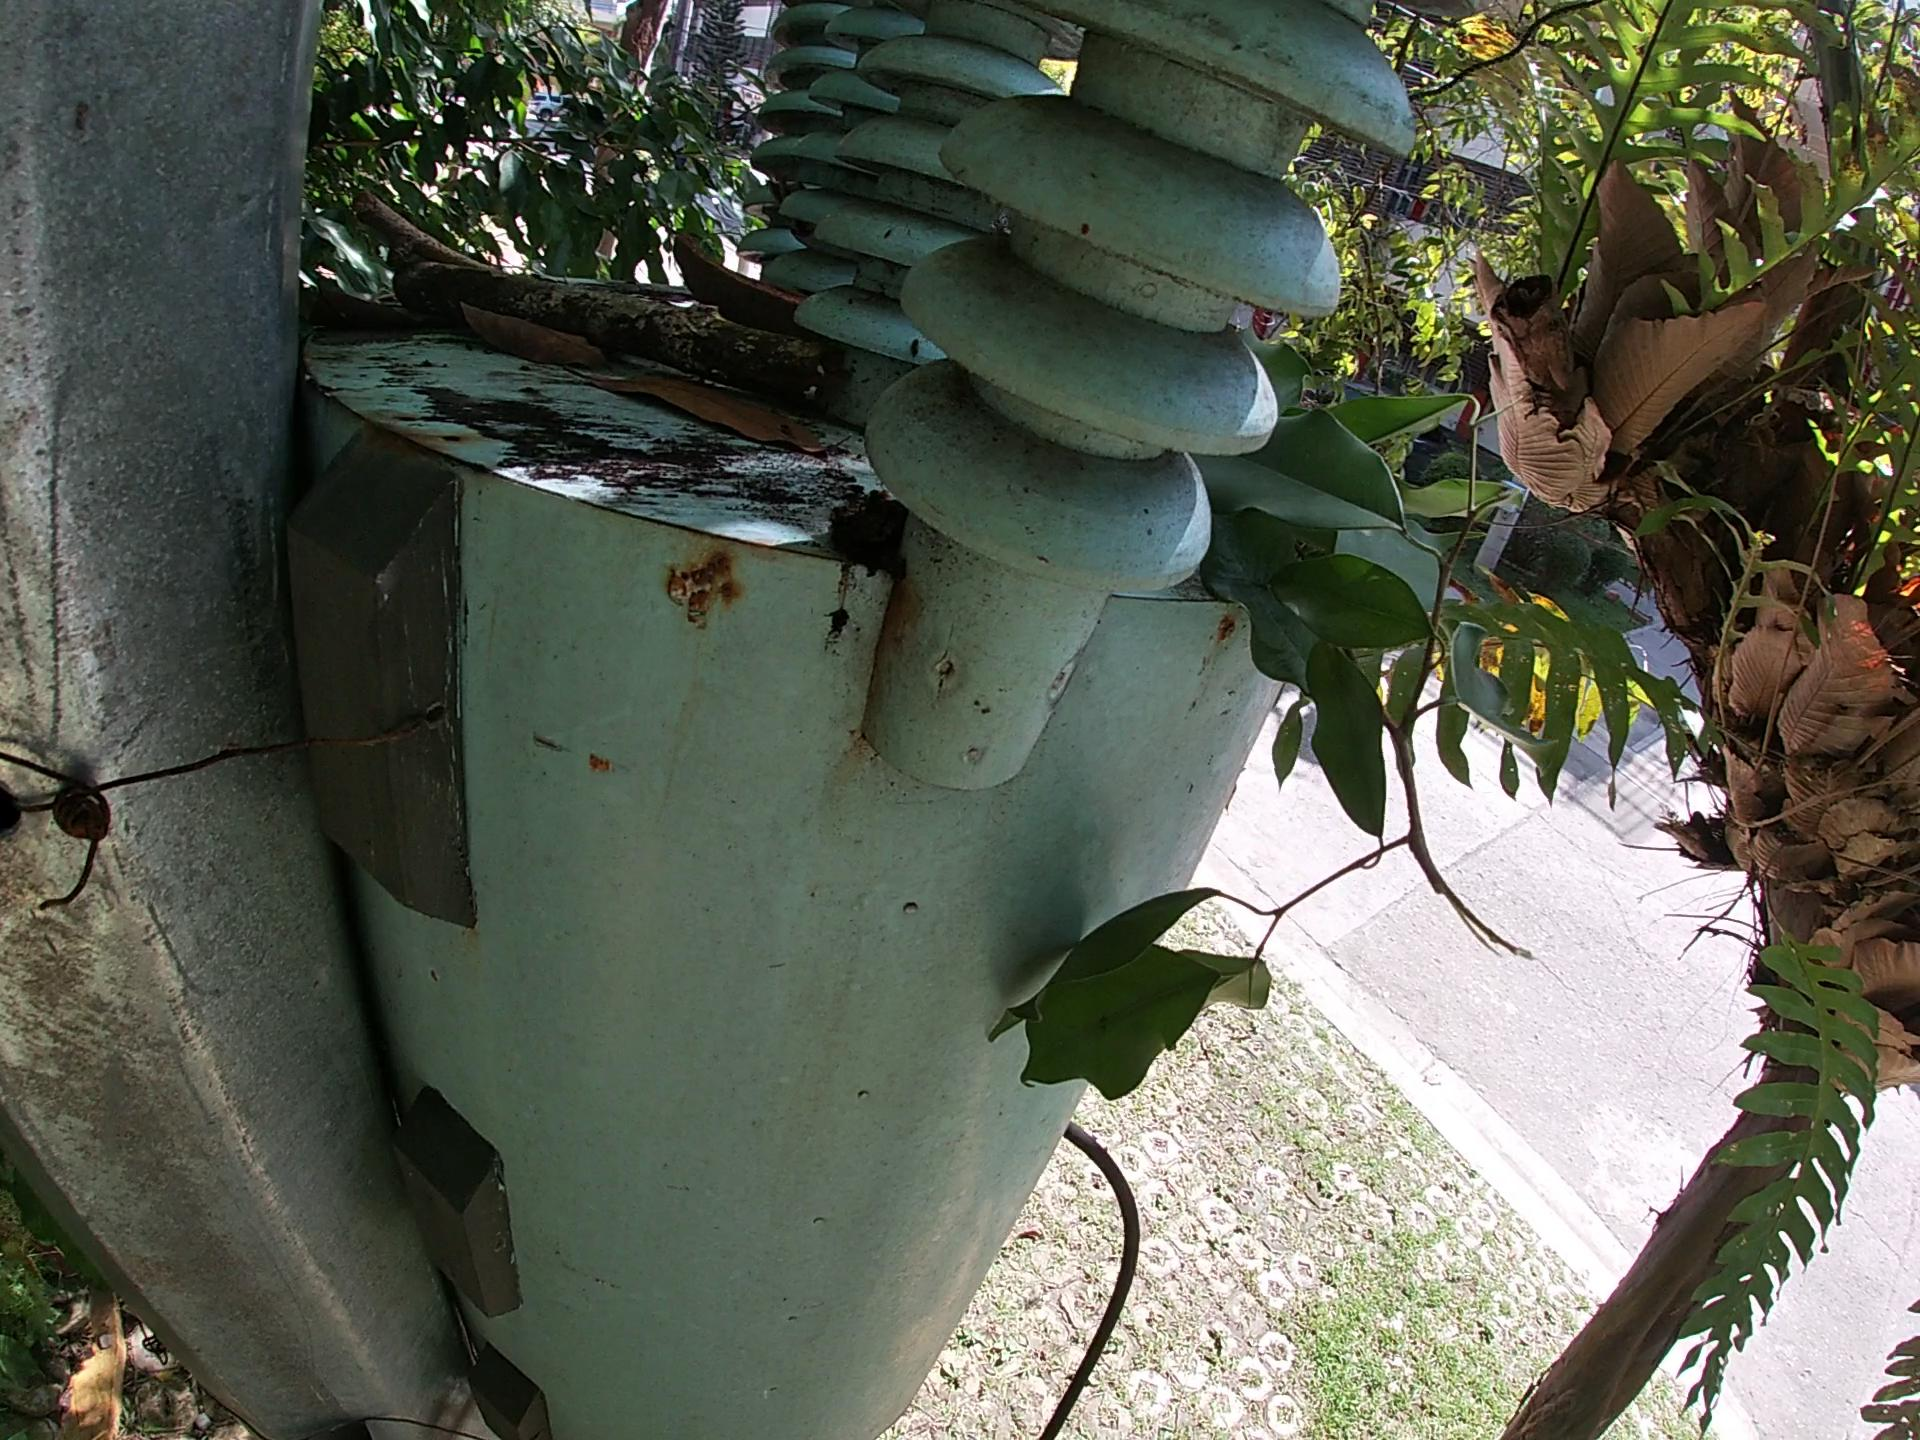branch with leaves: (981, 327, 1545, 1104)
leaf: (553, 360, 839, 473), (451, 304, 617, 368), (308, 272, 432, 334)
mahogany fruit: (662, 231, 816, 337)
tree branch: (389, 253, 847, 424), (348, 182, 491, 268)
